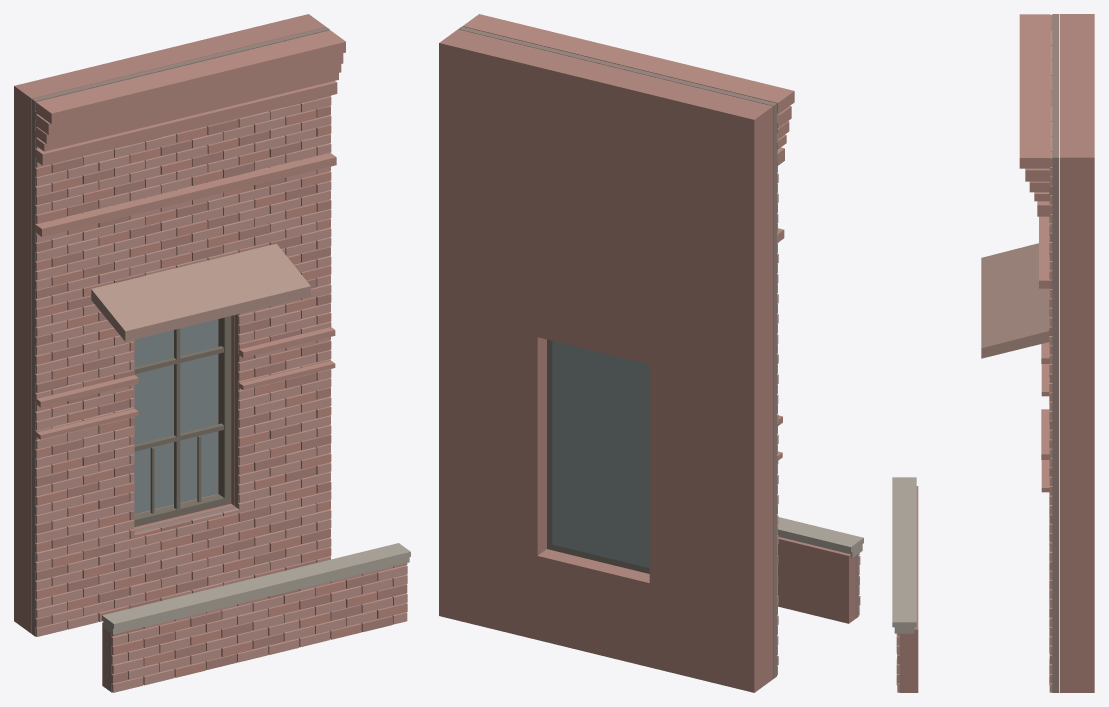
File: huangpu-kemei-hospital-west-hooded-window-raw.glb
3 renders of one model, left to right at view 1: azimuth 30°, elevation 25°; view 2: azimuth 150°, elevation 25°; view 3: azimuth 270°, elevation 25°, orthographic. The views are drawn at different scales.
Parts seen in each view (by area): view 1: 克美产科医院旧址西墙挑檐窗; view 2: 克美产科医院旧址西墙挑檐窗; view 3: 克美产科医院旧址西墙挑檐窗.
Part boxes in pixels (x1,y1,x2,y2): 克美产科医院旧址西墙挑檐窗: (14,14,410,692); 克美产科医院旧址西墙挑檐窗: (439,14,863,692); 克美产科医院旧址西墙挑檐窗: (892,14,1094,692).
Bounding box in the file's own units: 2.45 × 4.22 × 1.44.
